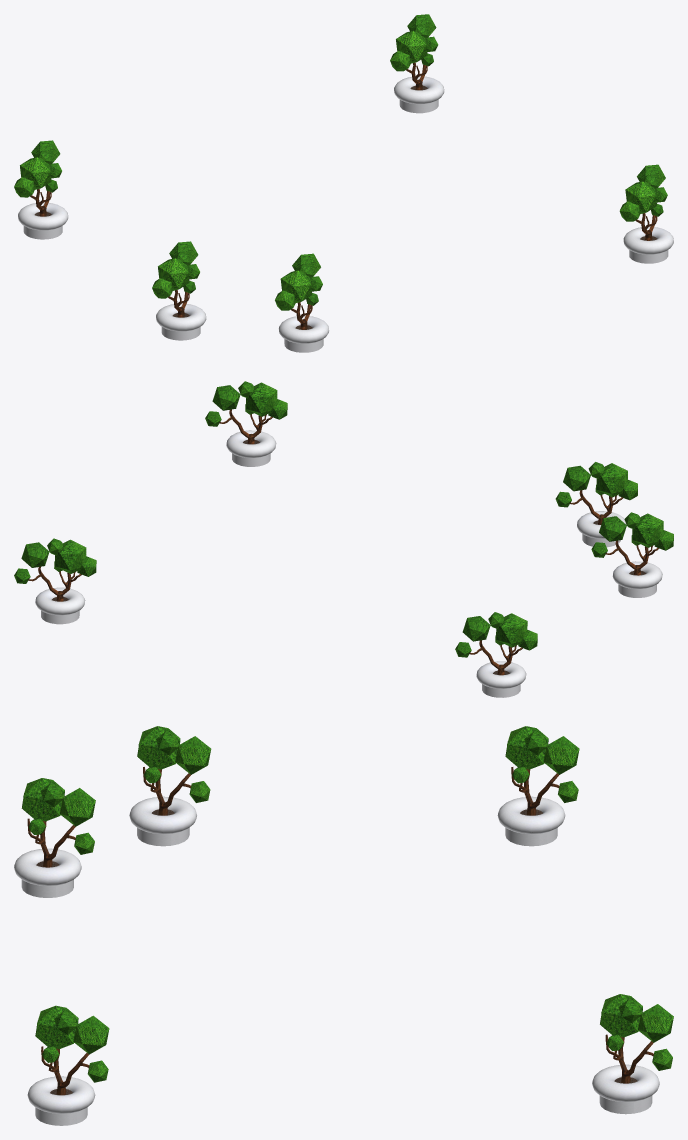
Rendered from arbol.obj.
3 views of the same model, one above another, from view 1: azimuth 30°, elevation 25°; view 2: azimuth 150°, elevation 25°; view 3: azimuth 270°, elevation 25° (orthographic). The views are drawn at different scales.
Parts seen in each view (by area): view 1: pasted__tree_polySurface2pCylinder3 group49, pasted__pasted__tree_polySurface2pCylinder3 pasted__group51 grou, pasted__tree_polySurface2pCylinder3 group51, pasted__pasted__tree_polySurface2pCylinder3 pasted__group50 grou, tree_polySurface2pCylinder3; view 2: pasted__tree_polySurface2pCylinder3 group51, tree_polySurface2pCylinder3, pasted__tree_polySurface2pCylinder3 group49, pasted__pasted__tree_polySurface2pCylinder3 pasted__group51 grou, pasted__pasted__tree_polySurface2pCylinder3 pasted__group50 grou; view 3: pasted__tree_polySurface2pCylinder3 group51, tree_polySurface2pCylinder3, pasted__pasted__tree_polySurface2pCylinder3 pasted__group51 grou, pasted__tree_polySurface2pCylinder3 group49, pasted__pasted__tree_polySurface2pCylinder3 pasted__group50 grou.
Boxes of the visible parts, x1,y1,x2,y2 form: pasted__tree_polySurface2pCylinder3 group49: [619, 164, 673, 263]; pasted__pasted__tree_polySurface2pCylinder3 pasted__group51 grou: [152, 241, 206, 340]; pasted__tree_polySurface2pCylinder3 group51: [14, 140, 68, 239]; pasted__pasted__tree_polySurface2pCylinder3 pasted__group50 grou: [275, 253, 329, 352]; tree_polySurface2pCylinder3: [390, 14, 444, 113]; pasted__tree_polySurface2pCylinder3 group51: [455, 612, 537, 697]; tree_polySurface2pCylinder3: [14, 538, 96, 624]; pasted__tree_polySurface2pCylinder3 group49: [205, 381, 287, 466]; pasted__pasted__tree_polySurface2pCylinder3 pasted__group51 grou: [591, 512, 673, 597]; pasted__pasted__tree_polySurface2pCylinder3 pasted__group50 grou: [555, 462, 637, 547]; pasted__tree_polySurface2pCylinder3 group51: [497, 726, 579, 846]; tree_polySurface2pCylinder3: [592, 994, 673, 1114]; pasted__pasted__tree_polySurface2pCylinder3 pasted__group51 grou: [129, 726, 211, 846]; pasted__tree_polySurface2pCylinder3 group49: [27, 1005, 109, 1125]; pasted__pasted__tree_polySurface2pCylinder3 pasted__group50 grou: [14, 778, 95, 897].
Size of the model in its own units: 19.56 by 2.98 by 16.95.
Materials: 25 (25 with a texture image).
